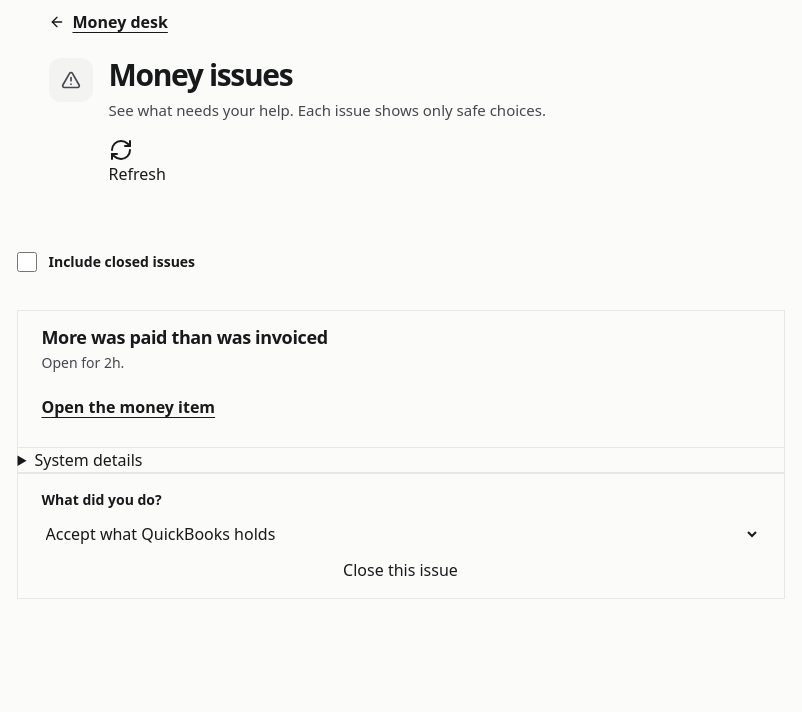
it: money exception queue › sends the chosen remedy and never a compensating effect
Step 1. Select "Accept what QuickBooks holds" in the dropdown labelled "What did you do?" → [400, 534], box [42,522,760,546]
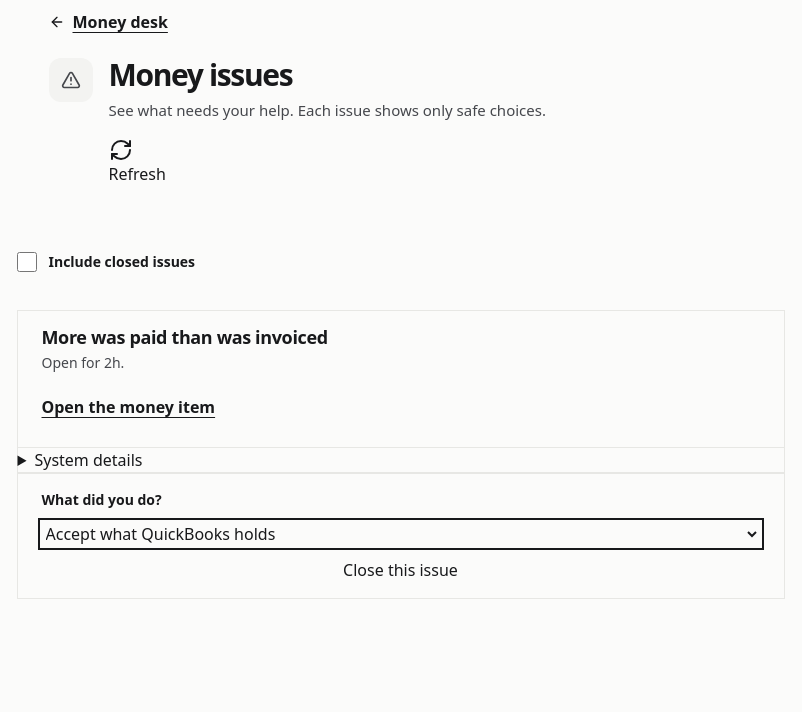
Step 2. Click the button "Close this issue" → [400, 570], box [42,558,760,582]
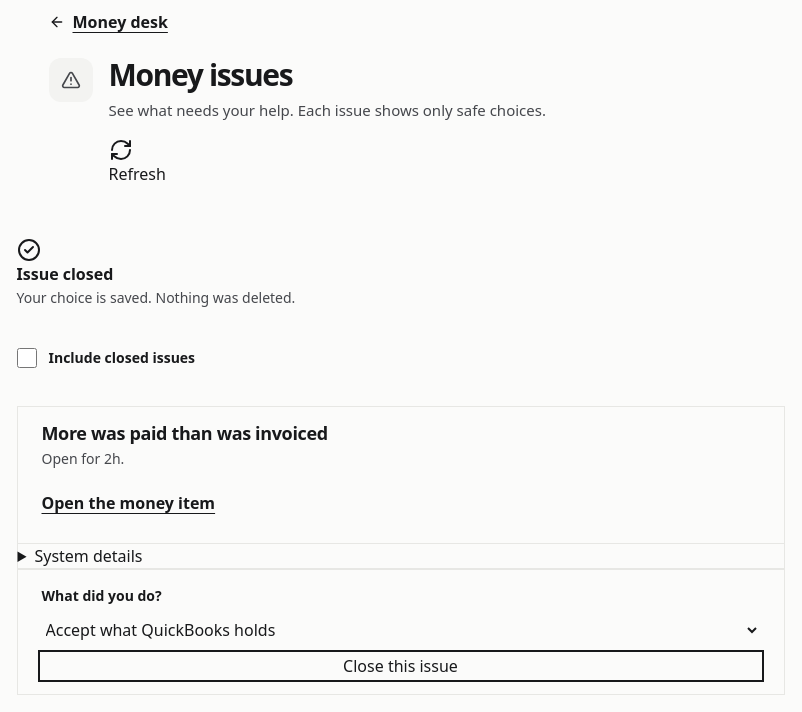
Expected: the text "Issue closed" is shown, [16,263,113,285]
